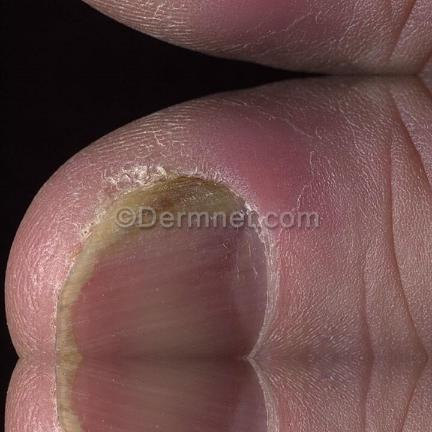Nail: (56, 176, 271, 357), (56, 358, 271, 432)
